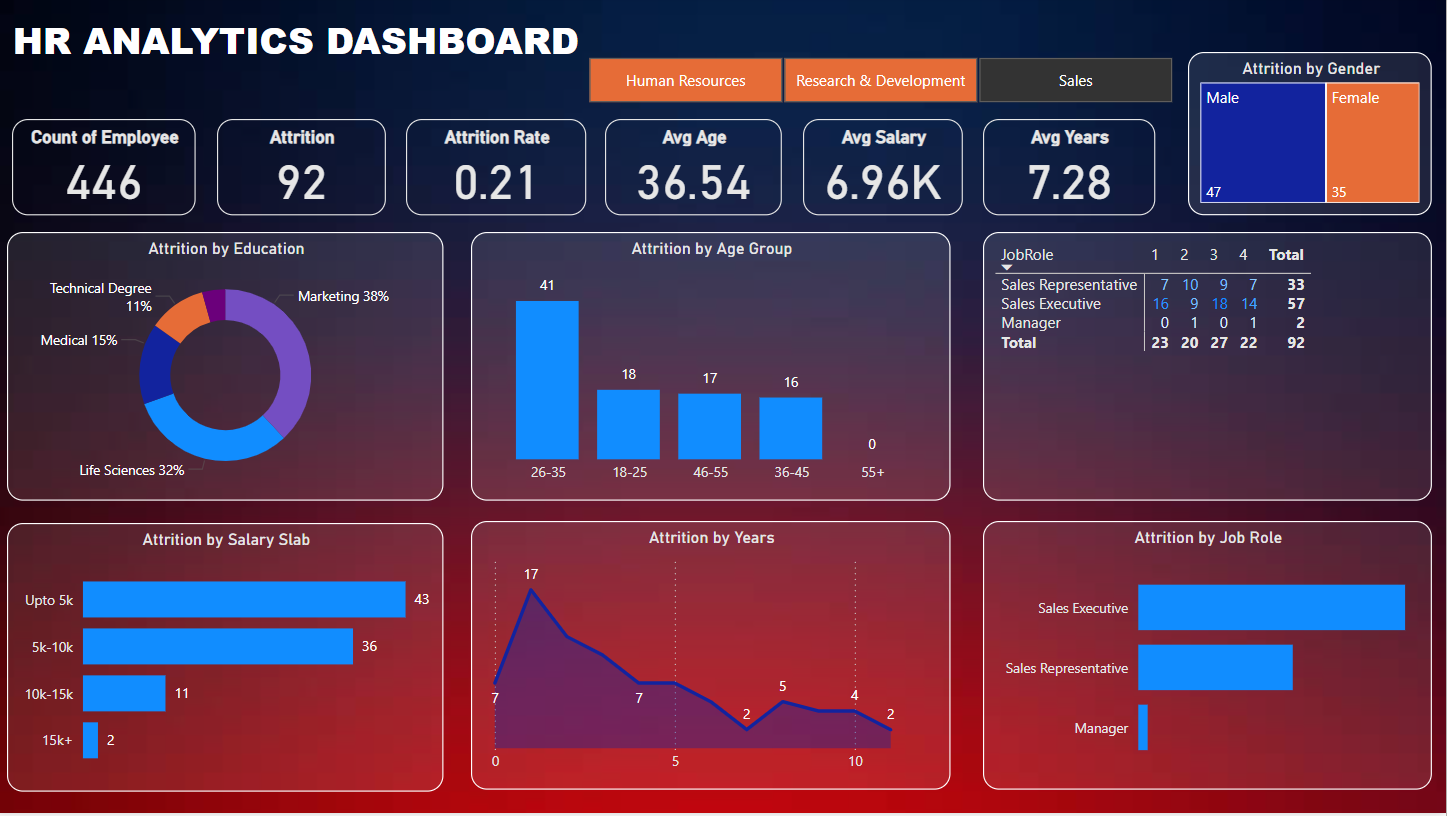

The page's visual inventory and layout, read from the dashboard file:
{"tool":"powerbi","page":{"name":"Page 1","canvas":[1280,720],"ordinal":0},"visuals":[{"type":"card","title":"Count of Employee","fields":{"Values":["CountNonNull(HR_Analytics.EmpID)"]},"box":[15.2,107.7,162.2,84.9],"z":0},{"type":"card","title":"Attrition Rate","fields":{"Values":["HR_Analytics.AttritionRate"]},"box":[362.4,107.7,159.2,84.9],"z":1000},{"type":"card","title":"Attrition","fields":{"Values":["Sum(HR_Analytics.AttritionCal)"]},"box":[195.6,107.7,148.6,84.9],"z":2000},{"type":"card","title":"Avg Age","fields":{"Values":["Avg(HR_Analytics.Age)"]},"box":[538.3,107.7,156.2,84.9],"z":3000},{"type":"card","title":"Avg Years","fields":{"Values":["Avg(HR_Analytics.YearsAtCompany)"]},"box":[871.8,107.7,151.6,84.9],"z":4000},{"type":"card","title":"Avg Salary","fields":{"Values":["Avg(HR_Analytics.MonthlyIncome)"]},"box":[712.6,107.7,141,84.9],"z":5000},{"type":"columnChart","title":"Attrition by Age Group","fields":{"Category":["HR_Analytics.AgeGroup"],"Y":["Sum(HR_Analytics.AttritionCount)"]},"box":[420,207.7,423,236.5],"z":6000},{"type":"donutChart","title":"Attrition by Education","fields":{"Category":["HR_Analytics.EducationField"],"Y":["Sum(HR_Analytics.AttritionCount)"]},"box":[10.6,207.7,385.1,236.5],"z":7000},{"type":"pivotTable","fields":{"Rows":["HR_Analytics.JobRole"],"Columns":["HR_Analytics.JobSatisfaction"],"Values":["Sum(HR_Analytics.AttritionCount)"]},"box":[871.8,207.7,395.7,236.5],"z":8000},{"type":"barChart","title":"Attrition by Salary Slab","fields":{"Category":["HR_Analytics.SalarySlab"],"Y":["Sum(HR_Analytics.AttritionCount)"]},"box":[10.6,464,385.1,236.5],"z":9000},{"type":"barChart","title":"Attrition by Job Role","fields":{"Category":["HR_Analytics.JobRole"],"Y":["Sum(HR_Analytics.AttritionCount)"]},"box":[871.8,462.5,395.7,236.5],"z":10000},{"type":"areaChart","title":"Attrition by Years","fields":{"Category":["HR_Analytics.YearsAtCompany"],"Y":["Sum(HR_Analytics.AttritionCount)"]},"box":[420,462.5,423,236.5],"z":11000},{"type":"treemap","title":"Attrition by Gender","fields":{"Group":["HR_Analytics.Gender"],"Values":["Sum(HR_Analytics.AttritionCount)"]},"box":[1052.3,48.5,215.3,144],"z":11001},{"type":"slicer","fields":{"Values":["HR_Analytics.Department"]},"box":[498.8,47,564,53.1],"z":11002},{"type":"textbox","box":[10.6,10.6,650.5,56.1],"z":11003}]}

Visuals, with their boxes in screenshot pixels (x1, y1, x2, y2), scaled from the page's 1280x720 canvas onto the 1448x816 screenshot:
"Count of Employee" card: [17,122,201,218]
"Attrition Rate" card: [410,122,590,218]
"Attrition" card: [221,122,389,218]
"Avg Age" card: [609,122,786,218]
"Avg Years" card: [986,122,1158,218]
"Avg Salary" card: [806,122,966,218]
"Attrition by Age Group" columnChart: [475,235,954,503]
"Attrition by Education" donutChart: [12,235,448,503]
pivotTable - HR_Analytics.JobRole x HR_Analytics.JobSatisfaction: [986,235,1434,503]
"Attrition by Salary Slab" barChart: [12,526,448,794]
"Attrition by Job Role" barChart: [986,524,1434,792]
"Attrition by Years" areaChart: [475,524,954,792]
"Attrition by Gender" treemap: [1190,55,1434,218]
slicer - HR_Analytics.Department: [564,53,1202,113]
textbox: [12,12,748,76]
